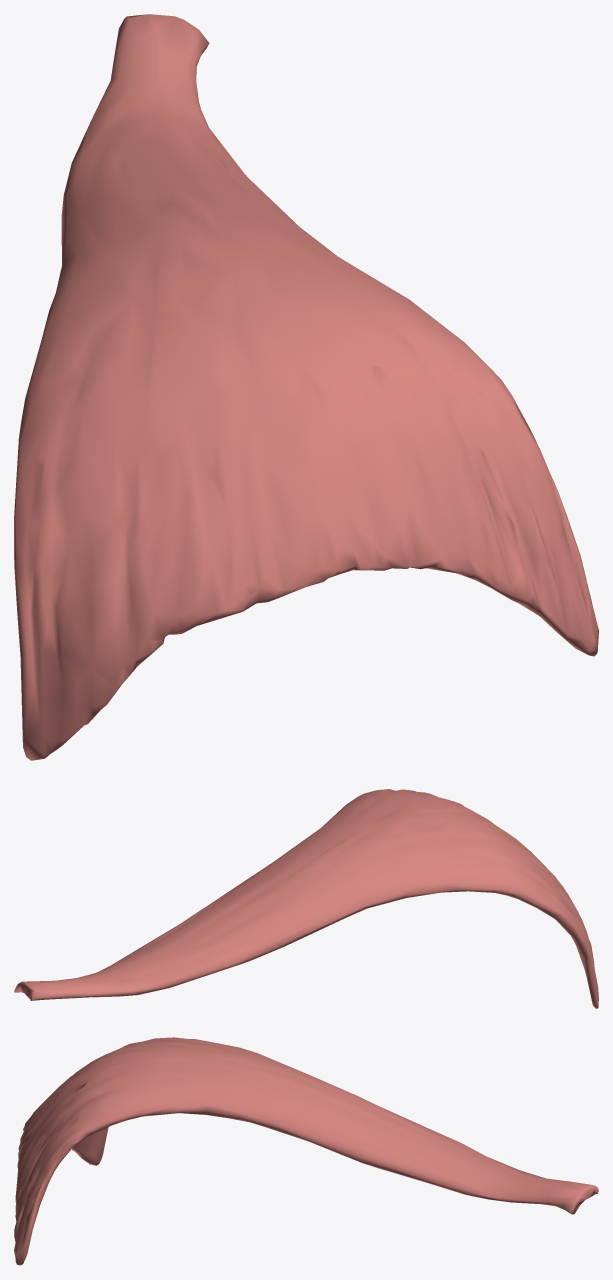
3 renders of one model, top to bottom at view 1: azimuth 30°, elevation 25°; view 2: azimuth 150°, elevation 25°; view 3: azimuth 270°, elevation 25°, orthographic. The views are drawn at different scales.
Parts seen in each view (by area): view 1: ZA_cd8fea9c508cf3c4; view 2: ZA_cd8fea9c508cf3c4; view 3: ZA_cd8fea9c508cf3c4.
Part boxes in pixels (left/top/right/bottom): ZA_cd8fea9c508cf3c4: left=14, top=14, right=598, bottom=760; ZA_cd8fea9c508cf3c4: left=14, top=789, right=598, bottom=1008; ZA_cd8fea9c508cf3c4: left=14, top=1037, right=598, bottom=1265.
Bounding box in the file's own units: 0.0301 × 0.0158 × 0.046.
